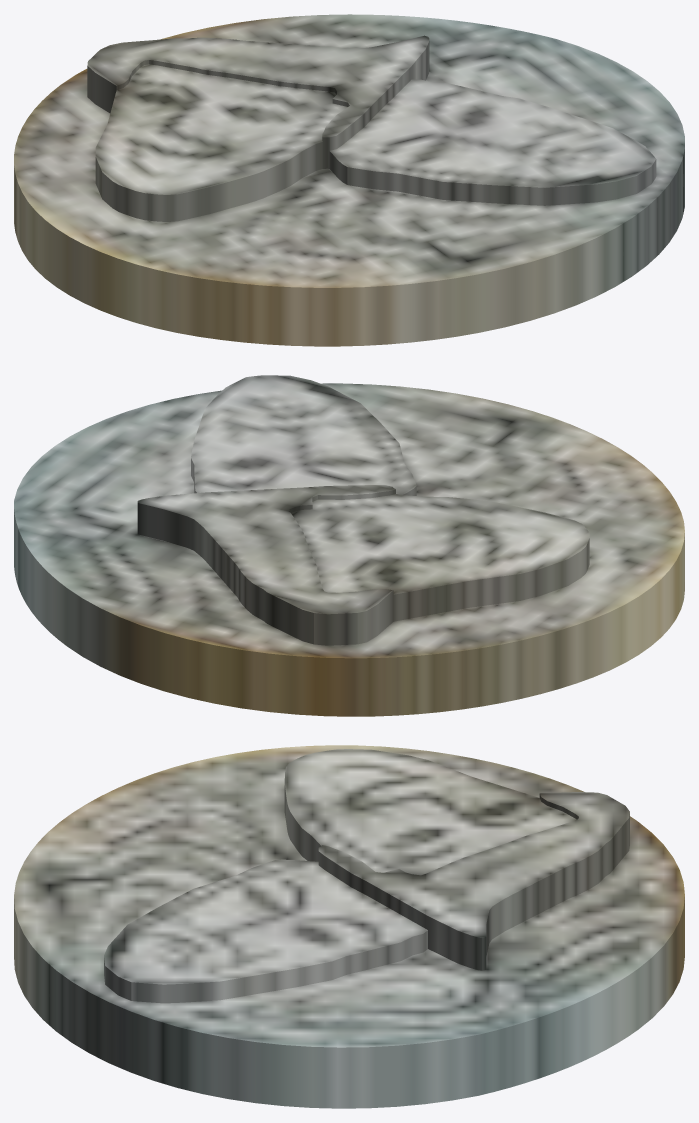
Rendered from El origen de nuestra 10.dae.
The picture shows the model from 3 angles, top to bottom: view 1: azimuth 30°, elevation 25°; view 2: azimuth 150°, elevation 25°; view 3: azimuth 270°, elevation 25°; orthographic projection. The views are drawn at different scales.
Visible parts, largest first — view 1: SketchUp (×2); view 2: SketchUp (×2); view 3: SketchUp (×2).
Boxes of the visible parts, x1,y1,x2,y2 form: SketchUp (×2): (14,14,684,346); SketchUp (×2): (14,375,684,716); SketchUp (×2): (14,745,684,1108).
Bounding box in the file's own units: 8.62 × 8.08 × 1.25.
1 material, 1 textured.
